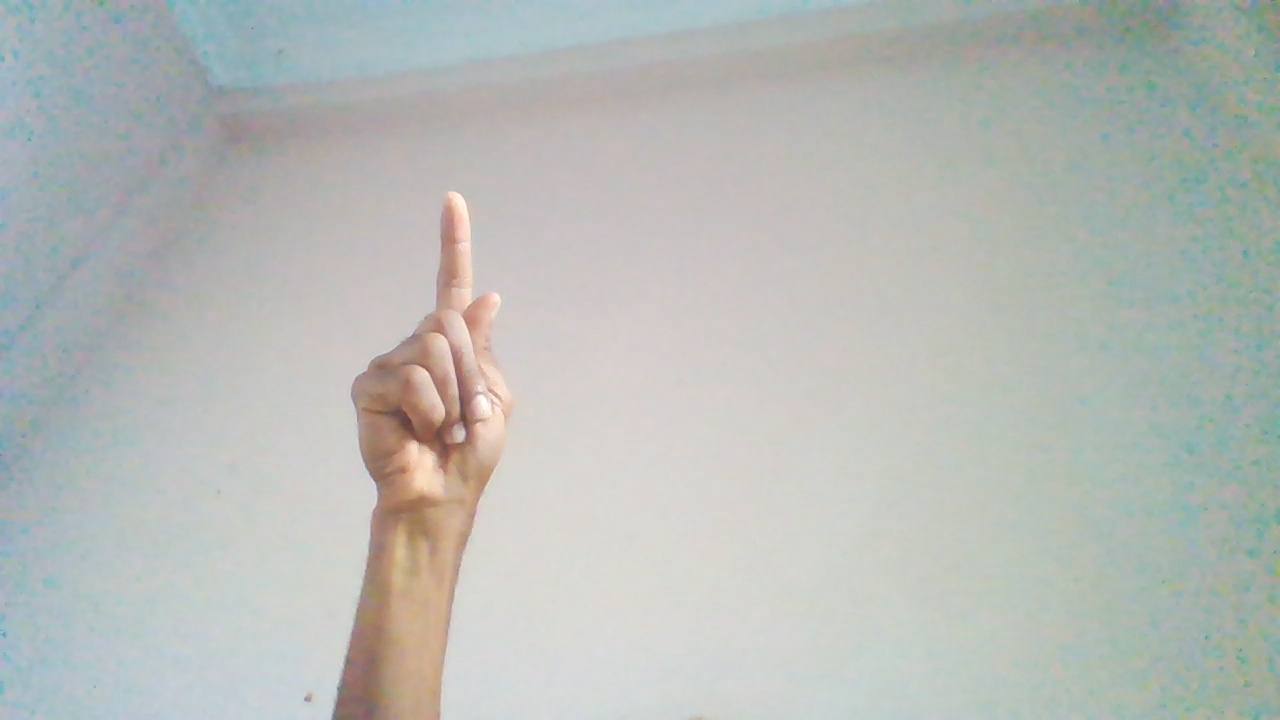ne: (351, 190, 515, 573)
